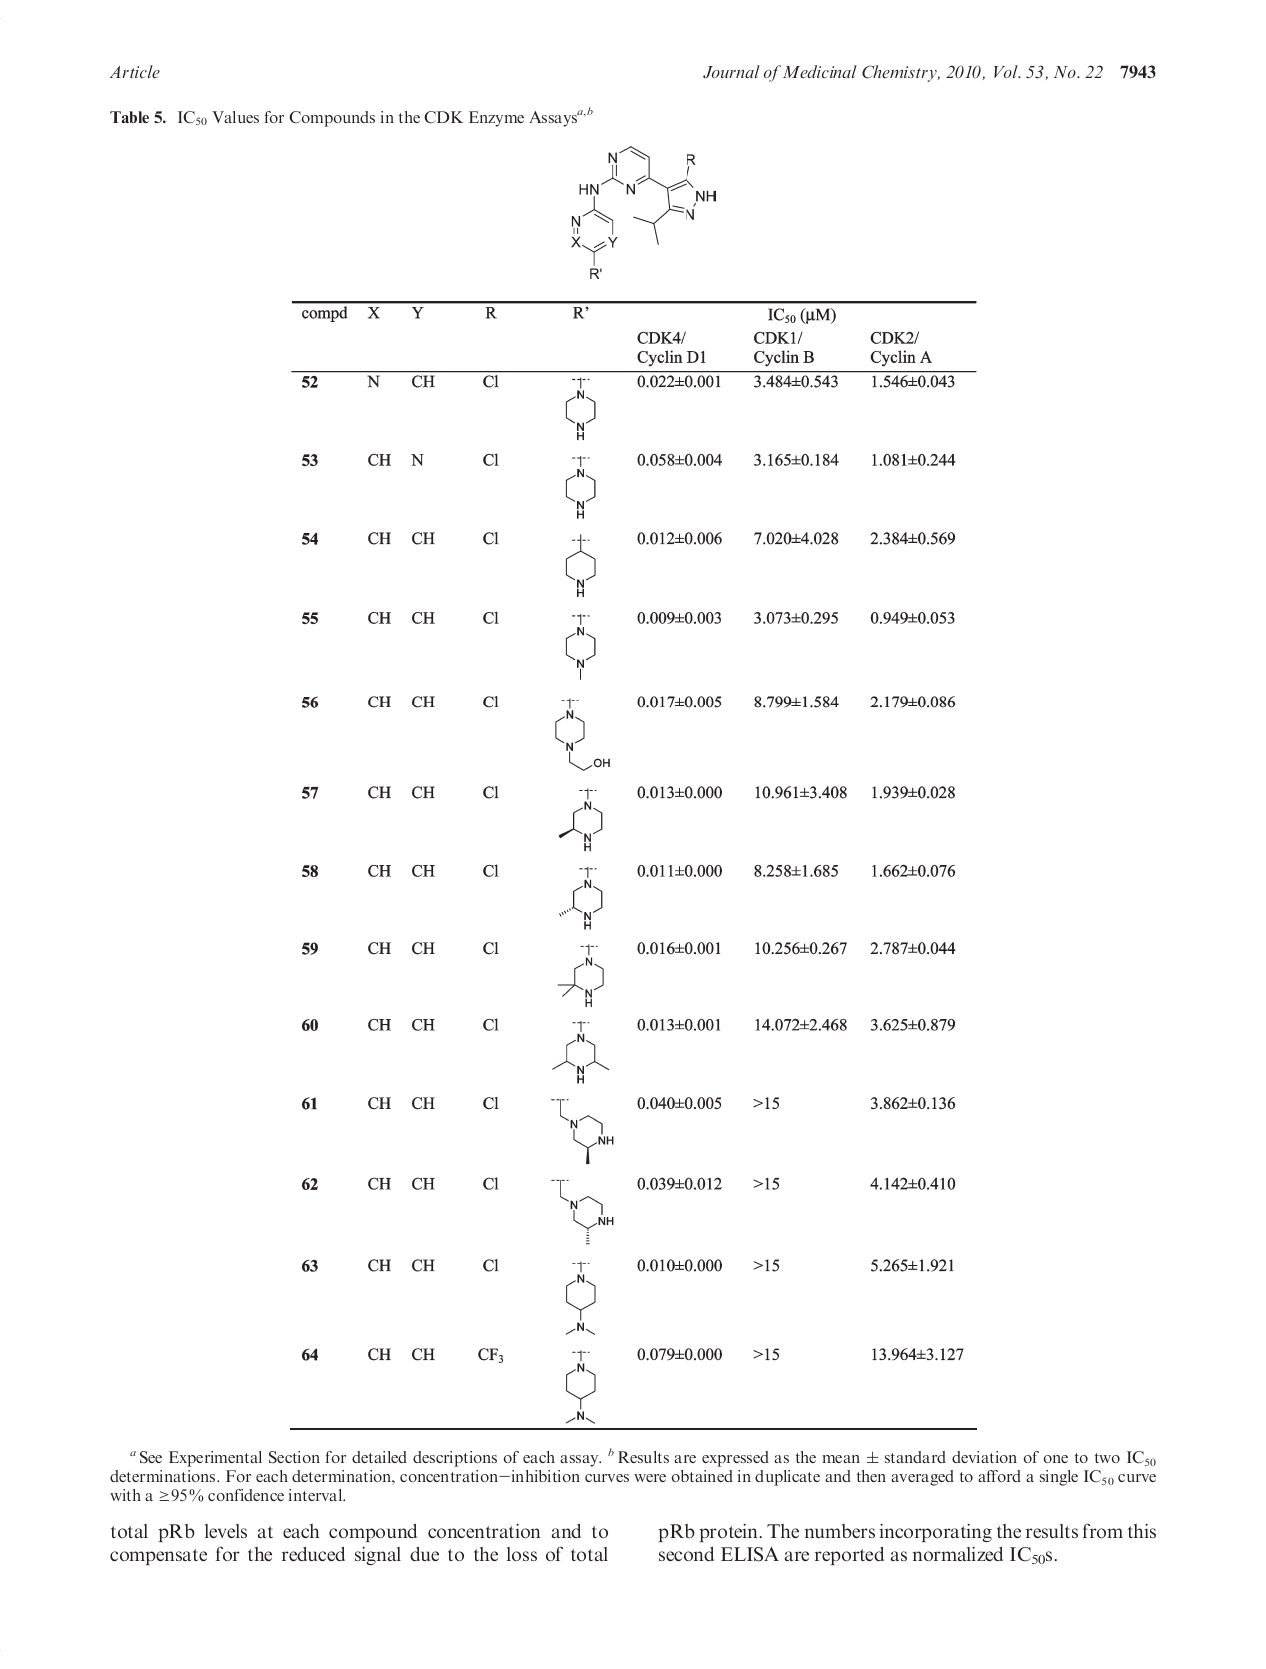exist_molecular: (569, 144, 718, 282), (551, 1096, 616, 1165), (555, 697, 613, 773), (549, 1178, 614, 1246), (551, 1019, 610, 1087), (557, 864, 604, 931), (557, 944, 605, 1008), (559, 787, 604, 852), (563, 1259, 598, 1337), (563, 1348, 598, 1426), (564, 455, 598, 521), (564, 613, 597, 680), (565, 375, 597, 442), (565, 532, 597, 598)
